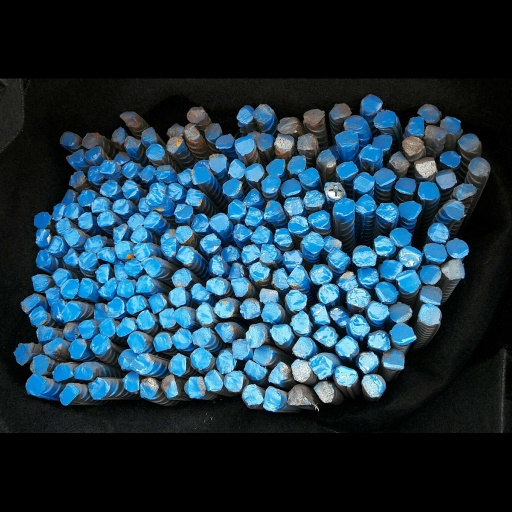dipstick: (333, 335, 357, 360), (313, 324, 337, 348), (390, 322, 416, 344), (361, 374, 385, 397), (333, 365, 357, 388), (373, 281, 398, 303), (286, 264, 307, 290), (129, 354, 155, 375), (310, 356, 333, 379), (182, 376, 205, 399), (308, 263, 332, 285), (398, 245, 422, 267), (242, 385, 264, 409), (353, 245, 376, 267), (355, 350, 378, 372), (190, 348, 212, 371), (138, 378, 160, 401), (326, 248, 350, 269), (397, 198, 421, 219), (420, 285, 444, 306), (420, 304, 444, 325), (215, 349, 236, 373), (161, 374, 180, 400), (374, 234, 395, 257), (443, 259, 466, 280), (356, 266, 379, 287), (289, 312, 310, 335), (262, 387, 283, 410), (416, 180, 440, 200), (347, 288, 371, 308), (286, 385, 310, 405), (231, 338, 251, 362), (264, 201, 285, 223), (301, 231, 322, 253), (402, 136, 424, 157), (274, 132, 295, 154), (448, 236, 469, 258), (419, 264, 441, 285), (230, 278, 252, 299), (191, 326, 212, 348), (168, 355, 190, 376), (423, 242, 446, 262), (398, 270, 421, 290), (317, 284, 340, 304), (291, 359, 311, 382), (293, 335, 313, 358), (269, 363, 289, 386), (309, 210, 330, 231), (356, 194, 377, 215), (375, 166, 396, 187), (428, 221, 449, 242), (459, 133, 480, 154), (369, 329, 390, 350), (331, 306, 352, 327), (253, 345, 274, 366), (239, 298, 260, 319), (172, 308, 193, 329), (134, 310, 155, 331), (354, 171, 374, 193), (396, 176, 418, 196), (389, 227, 411, 247), (336, 128, 358, 148), (380, 260, 402, 280), (369, 299, 389, 321), (245, 360, 267, 380), (246, 325, 266, 347), (262, 302, 282, 324), (224, 370, 244, 392), (171, 328, 191, 350), (324, 180, 347, 199), (277, 115, 300, 134), (350, 314, 369, 337), (315, 380, 334, 403), (195, 302, 214, 325), (388, 303, 412, 321), (376, 201, 397, 221), (311, 303, 331, 324), (271, 323, 291, 344), (171, 267, 192, 287), (24, 375, 45, 395), (271, 228, 293, 247), (297, 133, 319, 152), (337, 272, 359, 291), (285, 291, 307, 310), (258, 285, 280, 304), (89, 378, 108, 400), (271, 267, 289, 290), (417, 104, 440, 122), (121, 371, 139, 394), (469, 157, 489, 177), (360, 142, 380, 162), (213, 299, 233, 319), (97, 279, 117, 299), (186, 188, 206, 208), (287, 154, 306, 175), (298, 167, 319, 186), (407, 116, 426, 137), (361, 94, 382, 113), (215, 322, 234, 343), (414, 158, 436, 176), (374, 110, 396, 128), (204, 370, 222, 392), (26, 307, 48, 325), (281, 249, 301, 268), (281, 177, 301, 196), (437, 168, 456, 188), (117, 350, 137, 369), (148, 294, 167, 314), (190, 165, 210, 184), (390, 152, 411, 170), (208, 255, 226, 276), (209, 215, 231, 232), (335, 161, 357, 178), (439, 150, 461, 167), (226, 199, 245, 218), (285, 196, 304, 215), (304, 189, 323, 208), (206, 277, 225, 296), (201, 234, 220, 253), (116, 318, 135, 337), (141, 258, 160, 277), (58, 385, 77, 404), (62, 302, 81, 321), (20, 293, 39, 312), (79, 251, 98, 270), (255, 132, 274, 151), (249, 262, 267, 282), (262, 175, 280, 195), (335, 198, 355, 216), (446, 199, 464, 219), (456, 183, 476, 201), (371, 132, 391, 150), (176, 245, 194, 265), (190, 283, 210, 301), (53, 363, 73, 381), (12, 344, 30, 364), (90, 335, 110, 353), (48, 236, 66, 256), (174, 204, 194, 222), (221, 178, 241, 196), (236, 105, 256, 123), (289, 216, 310, 233), (425, 124, 446, 141), (127, 332, 144, 353), (161, 237, 178, 258), (76, 278, 93, 299), (303, 108, 325, 124), (234, 223, 253, 241), (442, 115, 461, 133), (383, 349, 402, 367), (173, 309, 191, 328), (106, 298, 125, 316), (34, 251, 52, 270), (33, 229, 51, 248), (113, 241, 131, 260), (235, 136, 254, 154), (255, 104, 273, 123), (318, 147, 338, 164), (331, 102, 351, 119), (153, 333, 170, 353), (267, 158, 285, 176), (30, 356, 48, 374), (166, 182, 184, 200), (245, 163, 263, 181), (208, 154, 226, 172), (246, 188, 263, 207), (322, 234, 341, 251), (192, 213, 209, 232), (175, 225, 192, 244), (126, 296, 145, 313), (60, 278, 77, 297), (62, 248, 79, 267), (147, 190, 166, 207), (228, 159, 245, 178), (51, 302, 67, 322), (66, 151, 86, 167), (241, 244, 258, 262), (136, 276, 153, 294), (78, 321, 96, 338), (124, 259, 142, 276), (58, 131, 76, 148), (154, 164, 171, 182), (31, 274, 50, 290), (118, 280, 134, 299), (122, 181, 138, 200), (261, 243, 276, 263), (159, 309, 174, 329), (74, 365, 94, 380), (63, 229, 80, 246), (98, 246, 115, 263), (253, 225, 269, 243), (169, 287, 187, 303), (44, 339, 62, 355), (93, 304, 109, 322), (113, 261, 129, 279), (33, 212, 51, 228), (68, 171, 86, 187), (122, 160, 140, 176), (141, 165, 157, 183), (344, 115, 363, 130), (63, 322, 78, 341), (187, 107, 206, 122), (167, 122, 186, 137), (146, 145, 165, 160), (140, 128, 159, 143), (246, 207, 262, 224), (222, 244, 238, 261), (34, 325, 50, 342), (68, 341, 84, 358), (99, 319, 116, 335), (52, 268, 69, 284), (95, 264, 112, 280), (159, 228, 176, 244), (77, 213, 94, 229), (101, 180, 118, 196), (176, 168, 193, 184), (83, 236, 101, 251), (112, 224, 127, 242), (96, 211, 114, 226), (76, 190, 94, 205), (112, 199, 130, 214), (111, 126, 126, 144), (215, 134, 233, 149), (203, 124, 221, 139), (90, 198, 109, 212), (44, 288, 60, 304), (132, 243, 148, 259), (87, 165, 103, 181), (131, 227, 148, 242), (65, 203, 80, 220), (184, 123, 201, 138), (167, 137, 182, 154), (54, 218, 69, 234), (87, 147, 103, 162), (83, 132, 98, 148), (137, 198, 153, 213), (123, 134, 139, 149), (127, 214, 144, 228), (101, 160, 118, 174), (52, 203, 65, 221), (119, 111, 137, 124), (228, 263, 244, 277), (114, 149, 130, 163), (144, 211, 157, 228), (61, 189, 75, 204), (246, 126, 259, 140), (196, 159, 211, 171)
